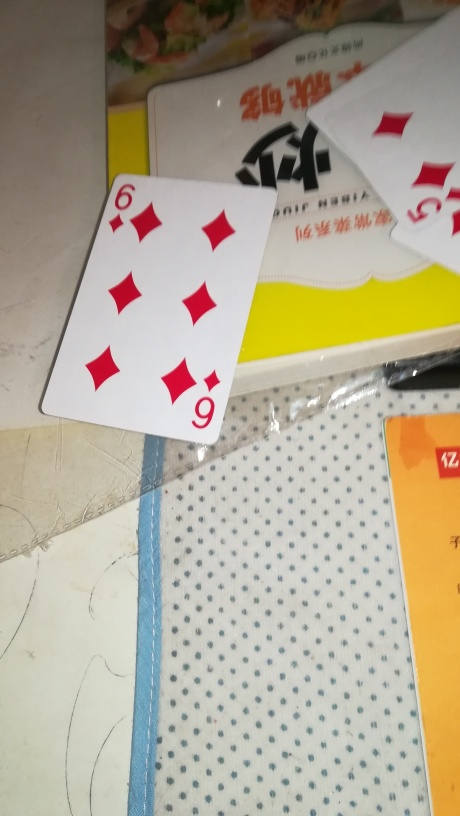fk 6: (38, 170, 278, 449)
